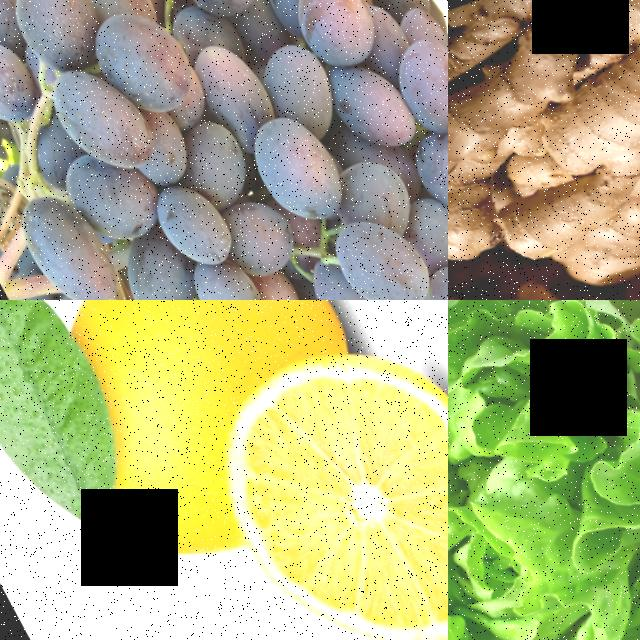ginger: (448, 23, 638, 298), (511, 0, 640, 182), (448, 230, 640, 300)
grapes: (0, 0, 448, 300)
lemon: (162, 300, 448, 640)
lettuce: (448, 300, 640, 640)
